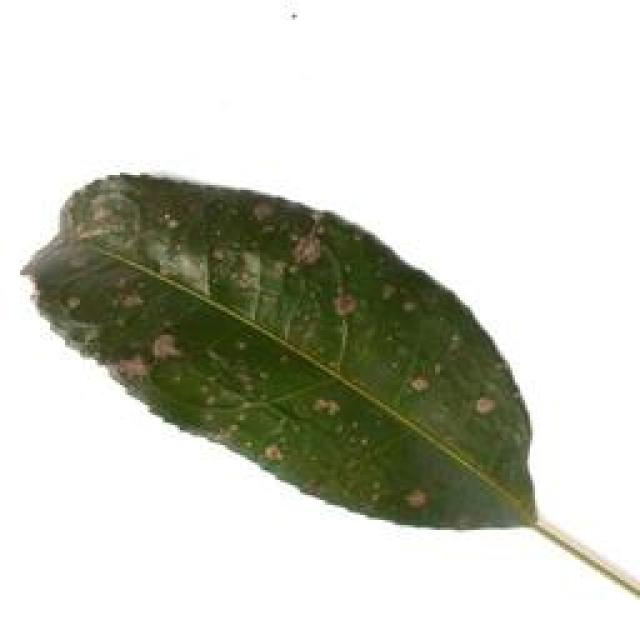Algal Leaf Spot: (22, 168, 553, 542)
